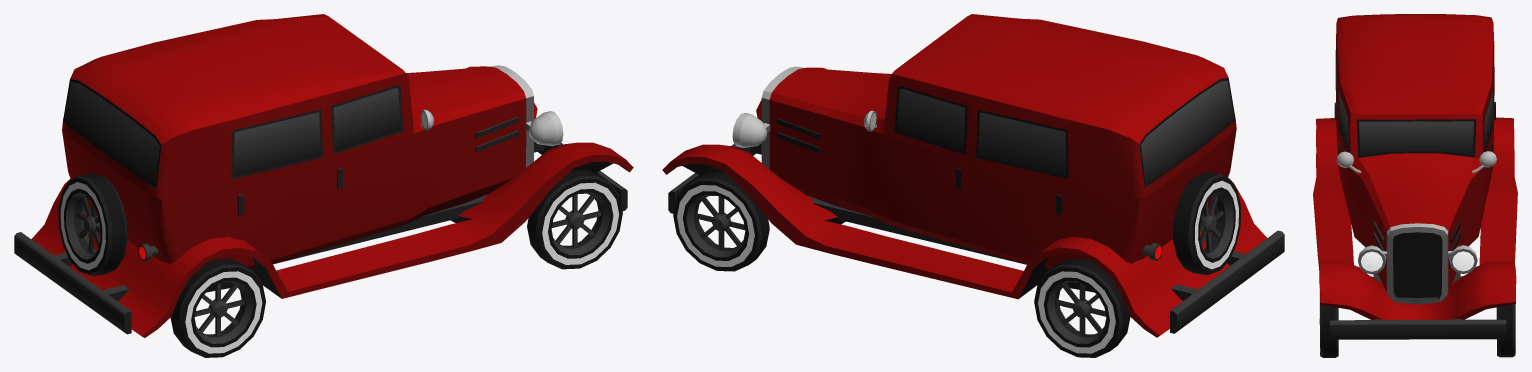
The model's file is Car_267.glb.
The picture shows the model from 3 angles, left to right: view 1: azimuth 30°, elevation 25°; view 2: azimuth 150°, elevation 25°; view 3: azimuth 270°, elevation 25°; orthographic projection. The views are drawn at different scales.
Visible parts, largest first — view 1: Car_267, wheel_2_Car_267_Wheel_2R, wheel_1_Car_267_Wheel_1R; view 2: Car_267, wheel_3_Car_267_Wheel_3L, wheel_0_Car_267_Wheel_1L; view 3: Car_267, wheel_1_Car_267_Wheel_1R, wheel_0_Car_267_Wheel_1L.
Boxes of the visible parts, x1,y1,x2,y2 form: Car_267: (14,14,633,337); wheel_2_Car_267_Wheel_2R: (170,259,265,357); wheel_1_Car_267_Wheel_1R: (527,170,622,269); Car_267: (662,14,1284,337); wheel_3_Car_267_Wheel_3L: (1034,258,1130,357); wheel_0_Car_267_Wheel_1L: (673,172,769,271); Car_267: (1313,14,1517,339); wheel_1_Car_267_Wheel_1R: (1319,288,1338,357); wheel_0_Car_267_Wheel_1L: (1496,304,1515,357).
Size of the model in its own units: 3.66 by 1.61 by 1.58.
3 materials, 3 textured.
